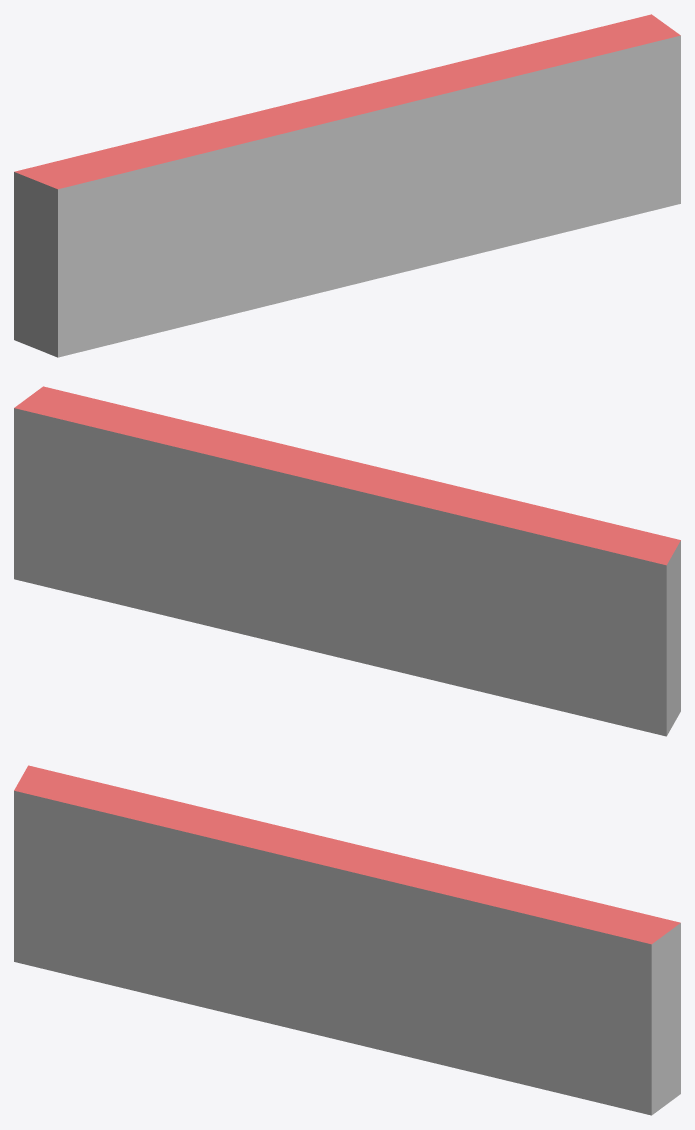
Rendered from ID_0cfb0da6-10ff-4ddc-a0ad-0a92cee02e99.gltf.
The picture shows the model from 3 angles, top to bottom: view 1: azimuth 30°, elevation 25°; view 2: azimuth 150°, elevation 25°; view 3: azimuth 330°, elevation 25°; orthographic projection.
Parts seen in each view (by area): view 1: Z_UP; view 2: Z_UP; view 3: Z_UP.
Part boxes in pixels (x1,y1,x2,y2): Z_UP: [14, 14, 680, 357]; Z_UP: [14, 386, 680, 736]; Z_UP: [14, 765, 680, 1115].
Size of the model in its own units: 63.68 by 16 by 5.32.
